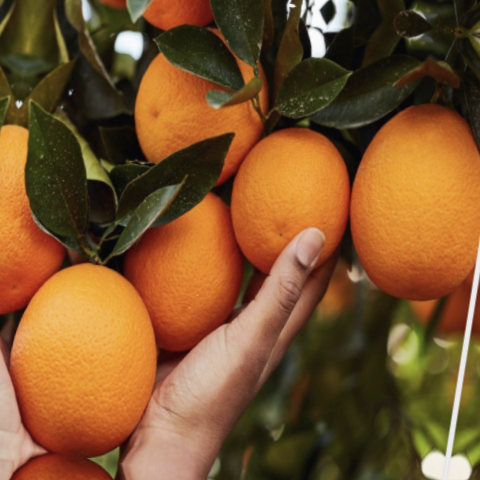orange: (0, 246, 183, 467), (315, 77, 480, 312), (213, 98, 370, 293)
